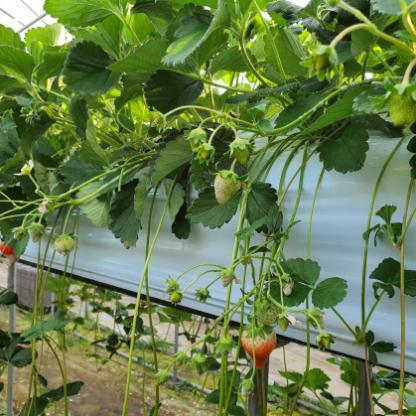Strawberry_Powdery_Mildew_Fruit: (214, 170, 242, 206)
